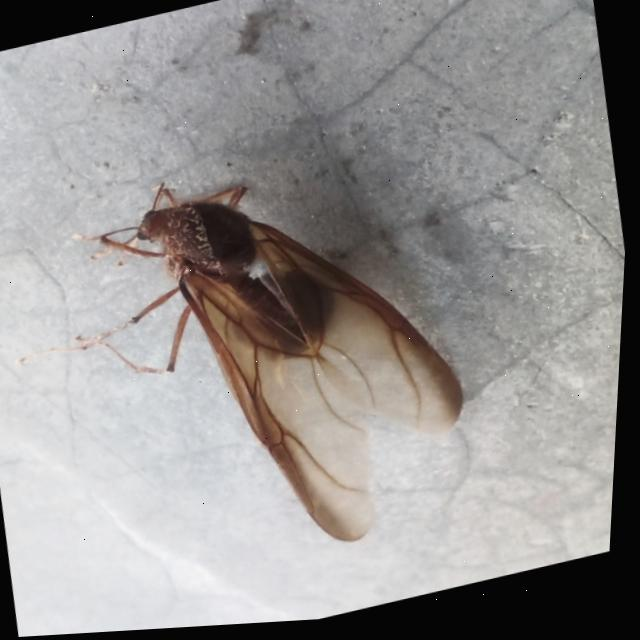Dead-Male-Alate: (0, 122, 500, 616)
